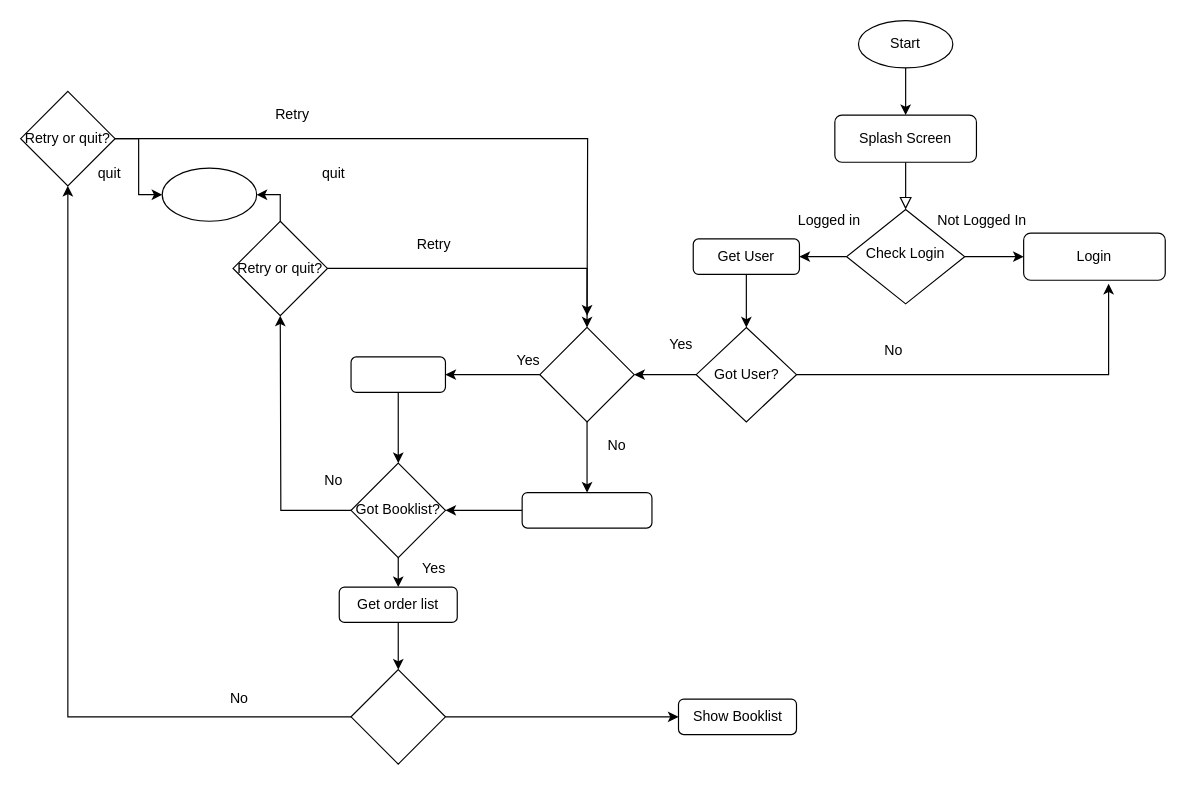
Some shapes in this 1186 by 785 pixel diagram are drawn without their labels. Each missing label, with the centre of its shape:
End: the point at 209,194
Get Admin Booklist: the point at 397,374
Get user booklist: the point at 586,509
Got order list?: the point at 397,716
Is the user Admin: the point at 586,374
